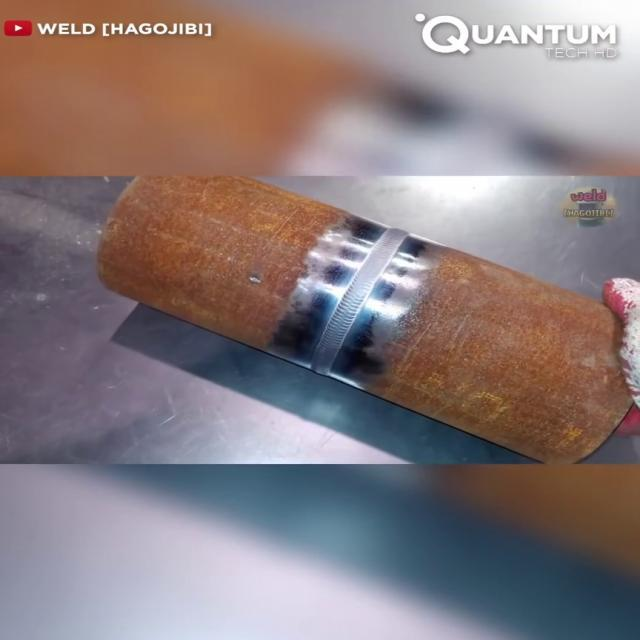Good Weld: (313, 231, 389, 371)
